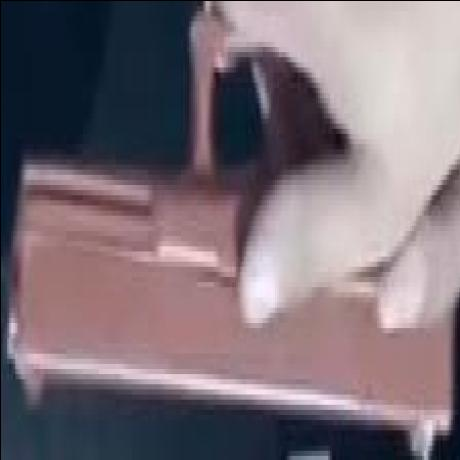1: (206, 0, 459, 343)
weapon: (6, 90, 456, 439)
